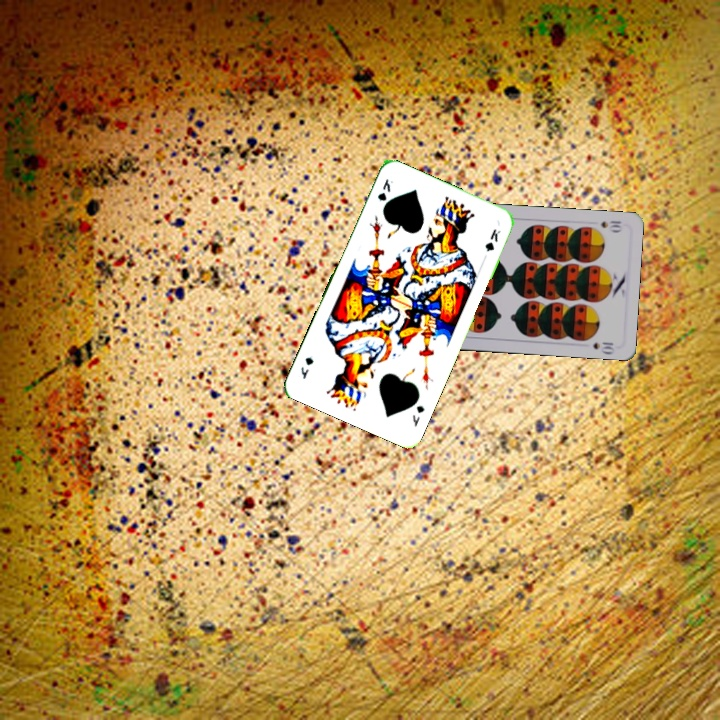GK: (373, 175, 396, 204), (408, 401, 427, 429)
S10: (596, 217, 624, 234)
